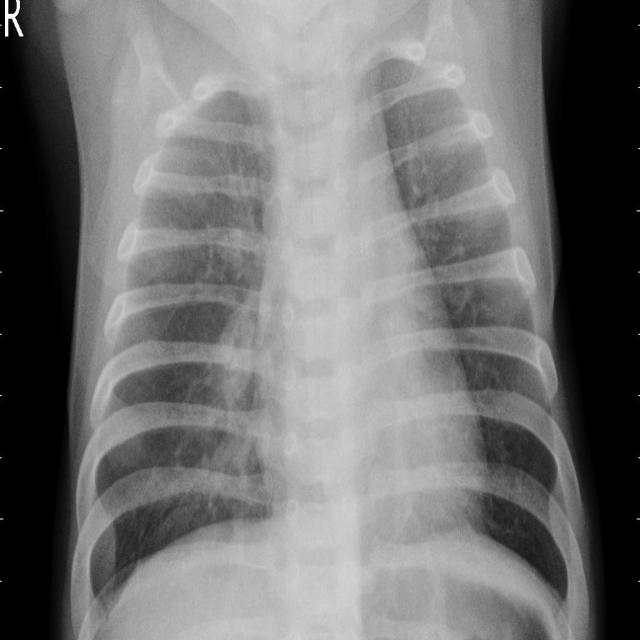low-pneumonia: (201, 278, 261, 522), (207, 141, 258, 280)
